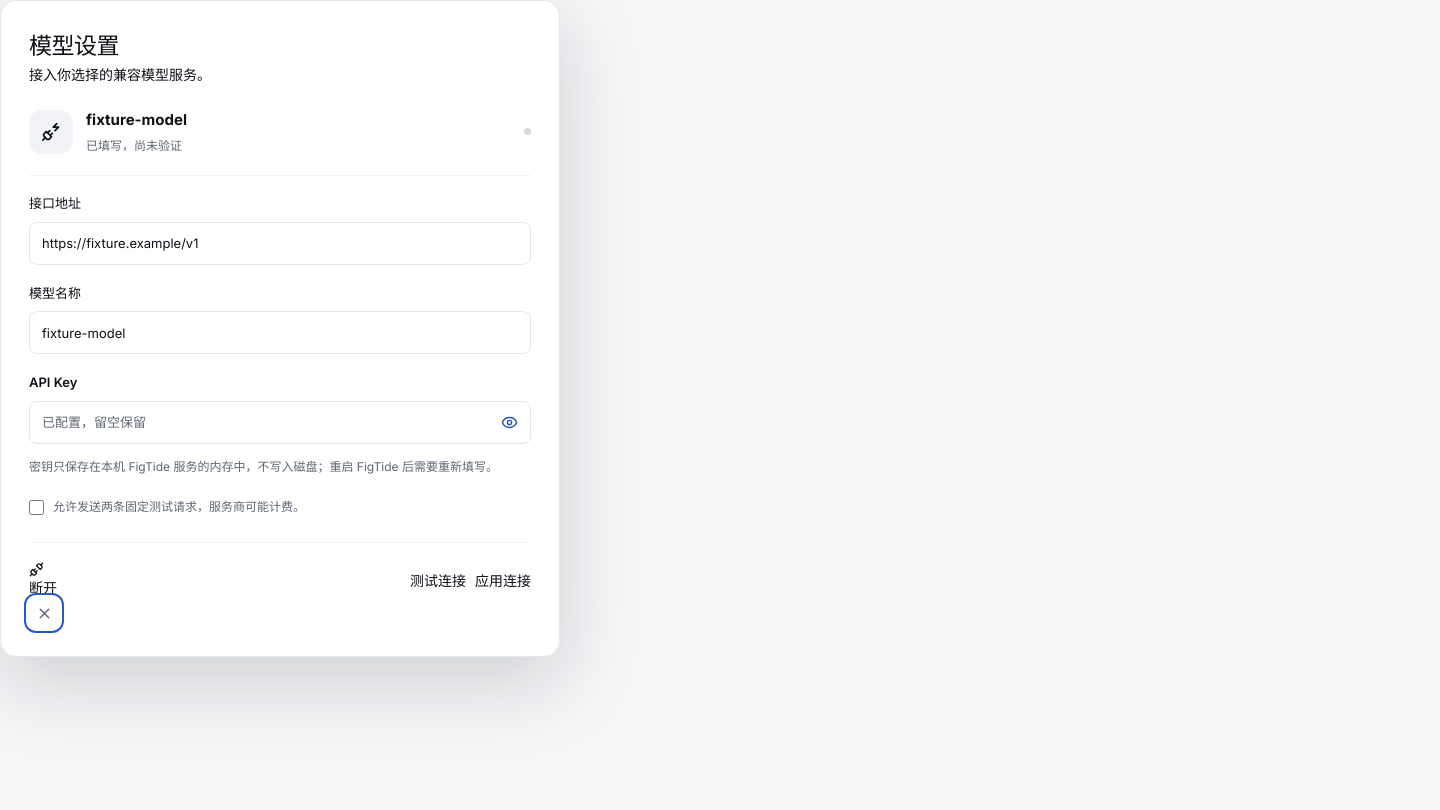
Test: clears test proof when settings change and refuses to reuse a key at another address
This screenshot has width=1440, height=810.
Expected: the field showing "https://fixture.example/v1" is shown, [29,222,531,264]
Click the checkbox at coordinates (36, 507), box [29,500,44,515]
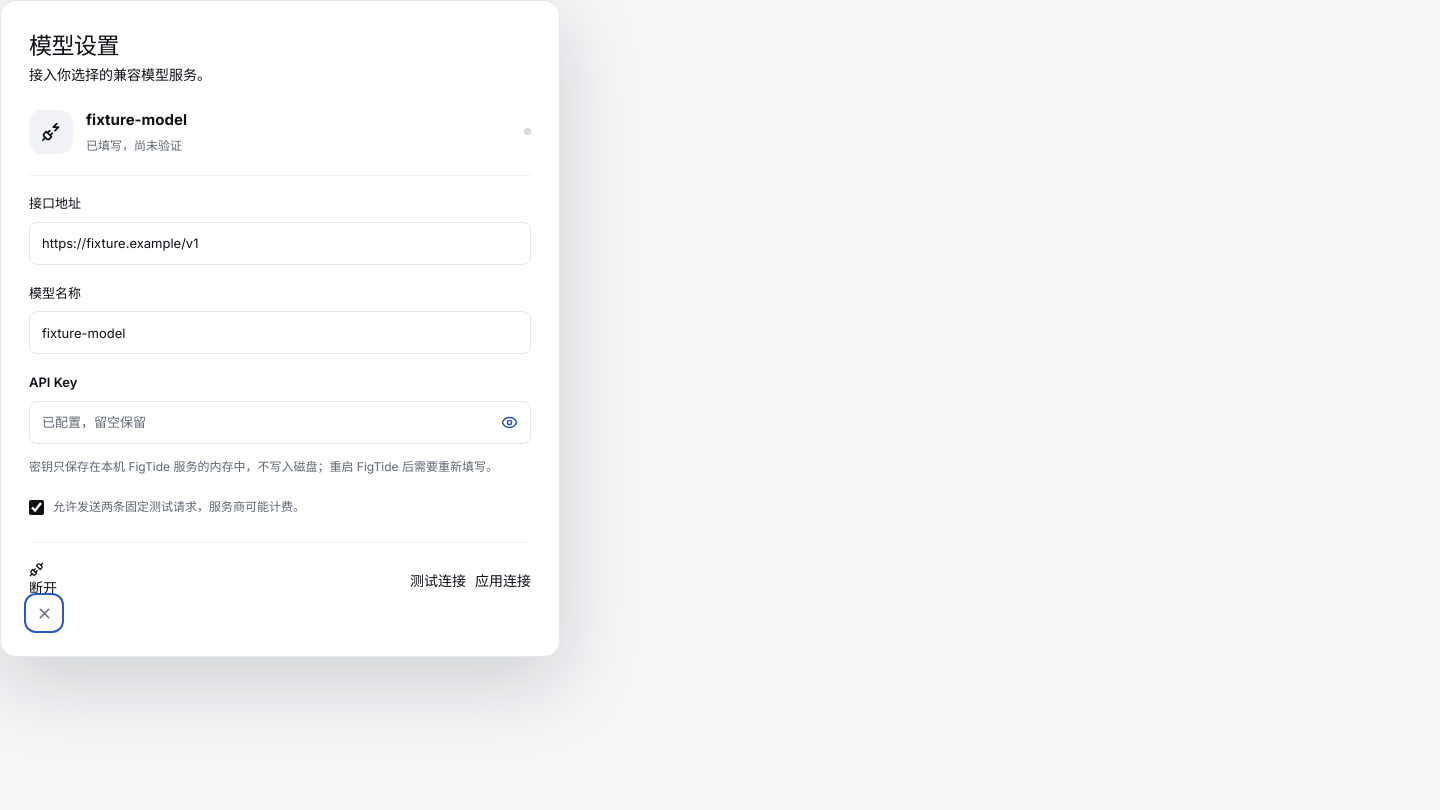
Click the button "测试连接" at coordinates (438, 580), box [410,570,466,591]
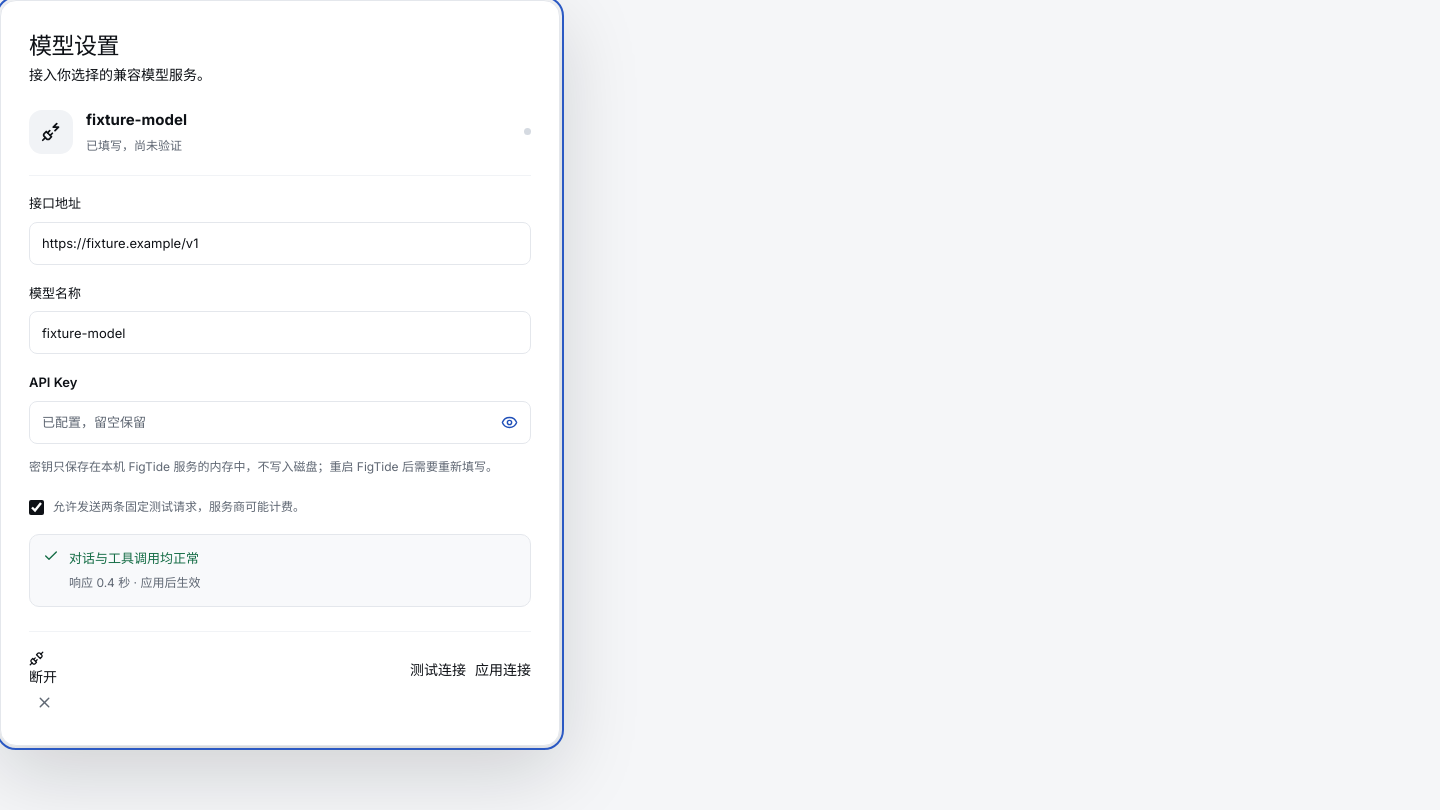
Result: the text "对话与工具调用均正常" is shown at [69,548,200,570]
Replace the text in the field labelled "接口地址" with "https://other.example/v1" at coordinates (280, 243), box [29,222,531,264]
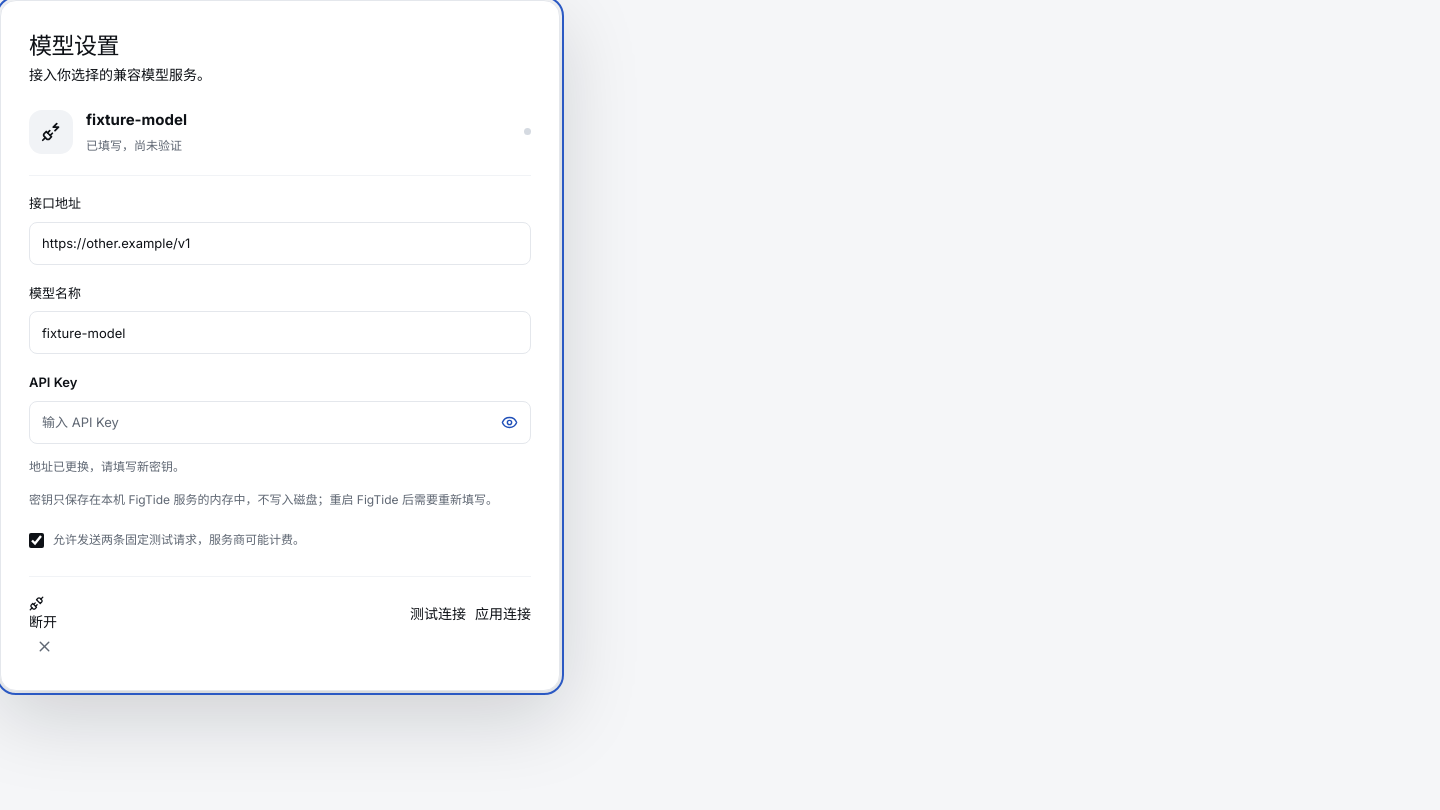
Result: the text "对话与工具调用均正常" is gone
Result: the button "应用连接" is disabled at [475,603,531,624]
Type "fixture.other-key" into the password field labelled "API Key" at coordinates (280, 422), box [29,400,531,444]
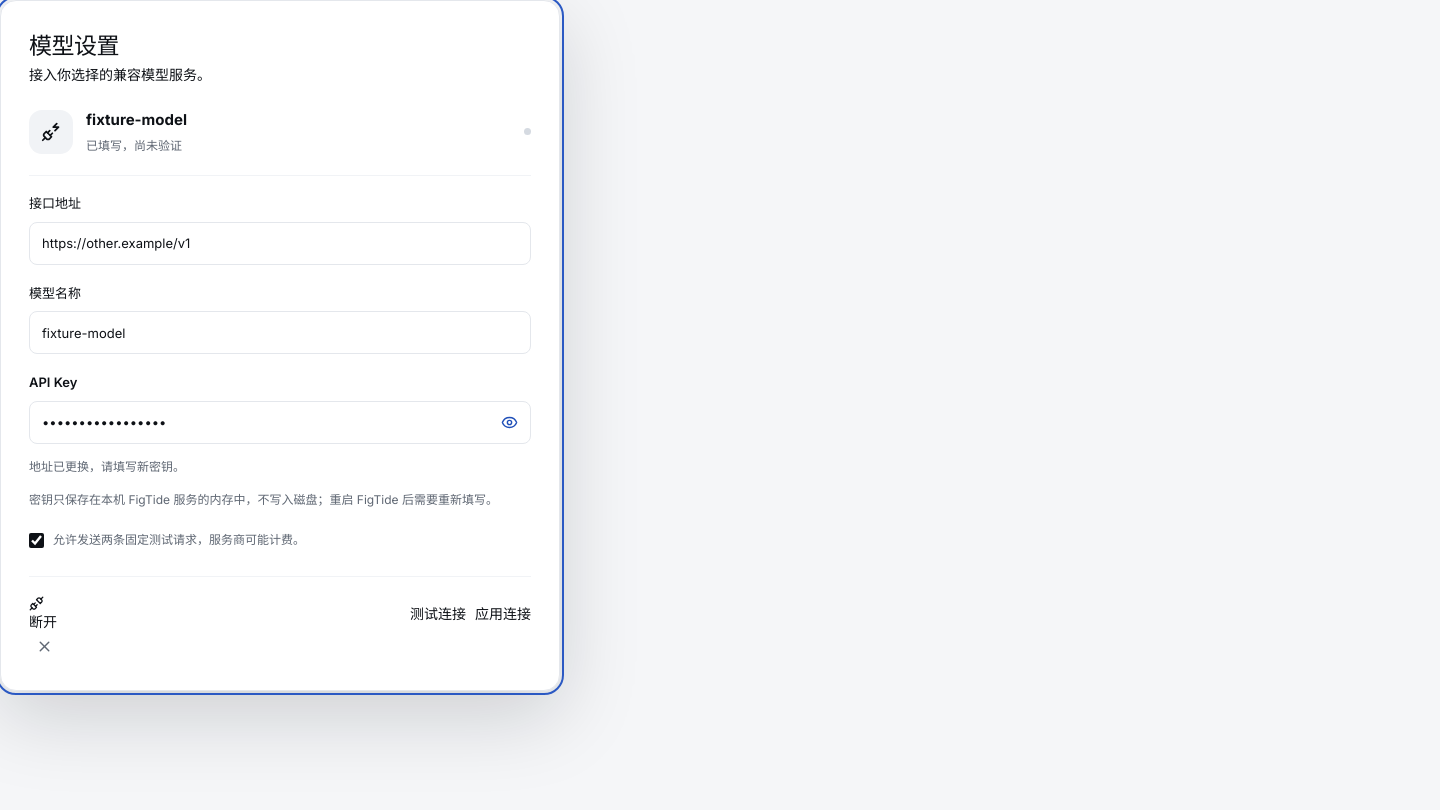
Click the button "应用连接" at coordinates (503, 614), box [475,603,531,624]
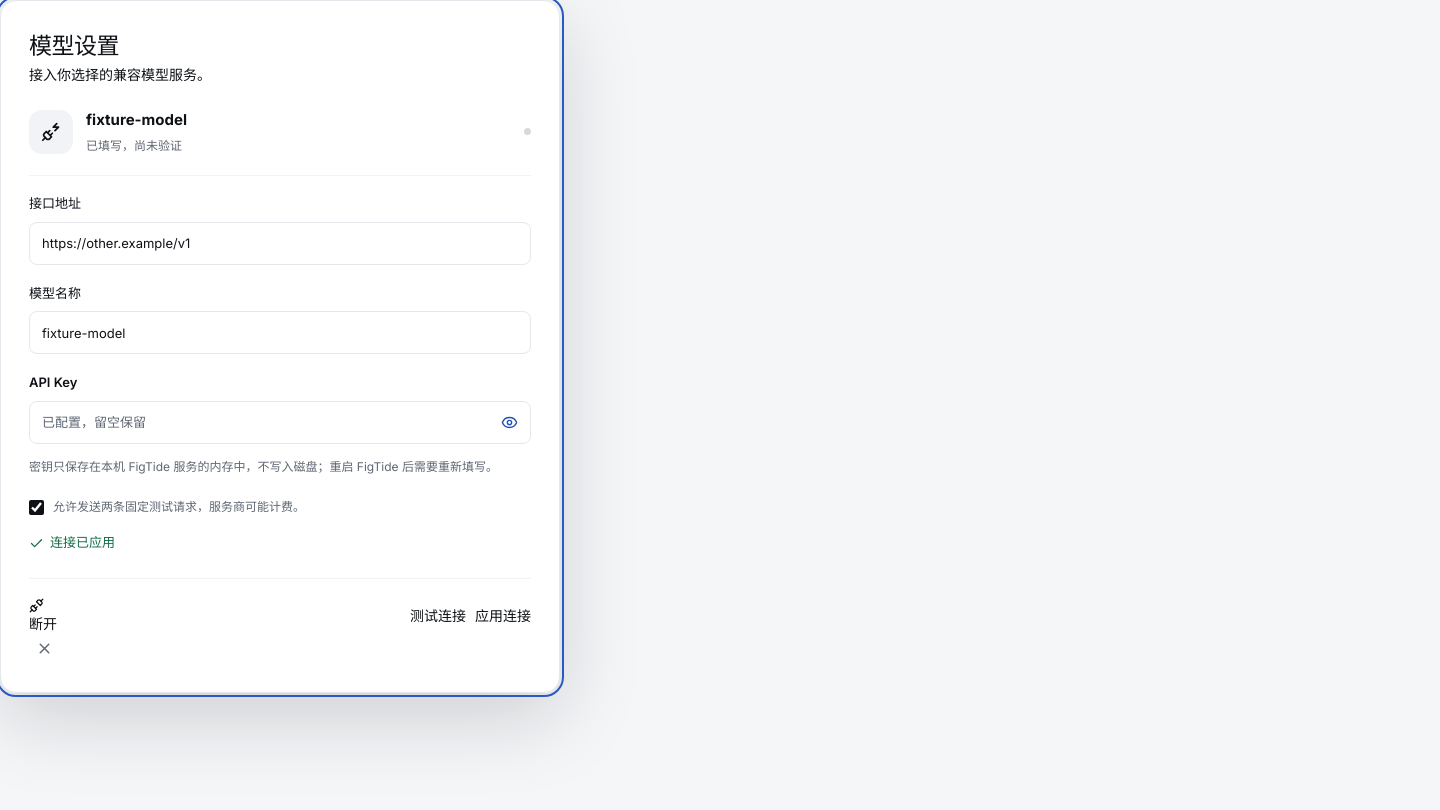
Result: the text "连接已应用" is shown at [29,534,115,551]
